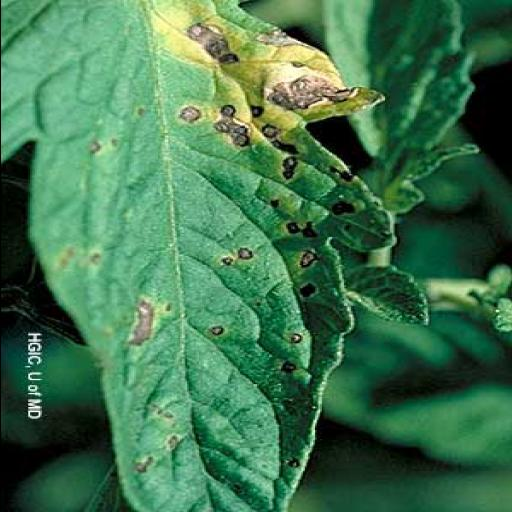Early Blight: (0, 1, 394, 511)
